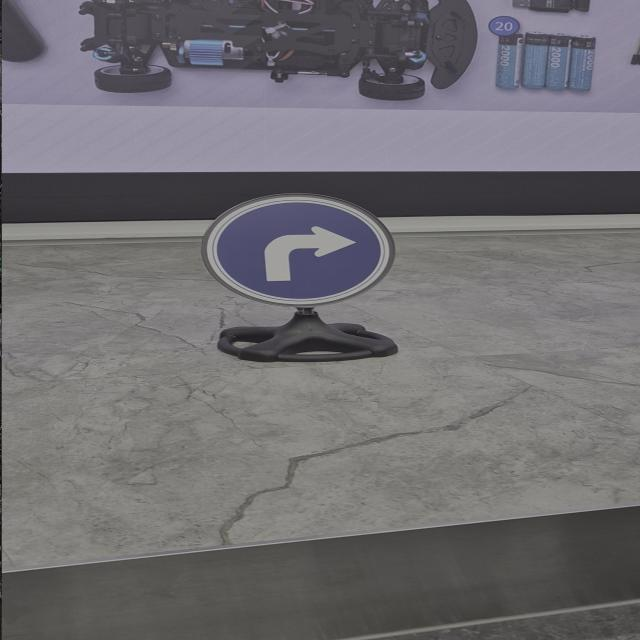right_dierection: (178, 182, 470, 334)
